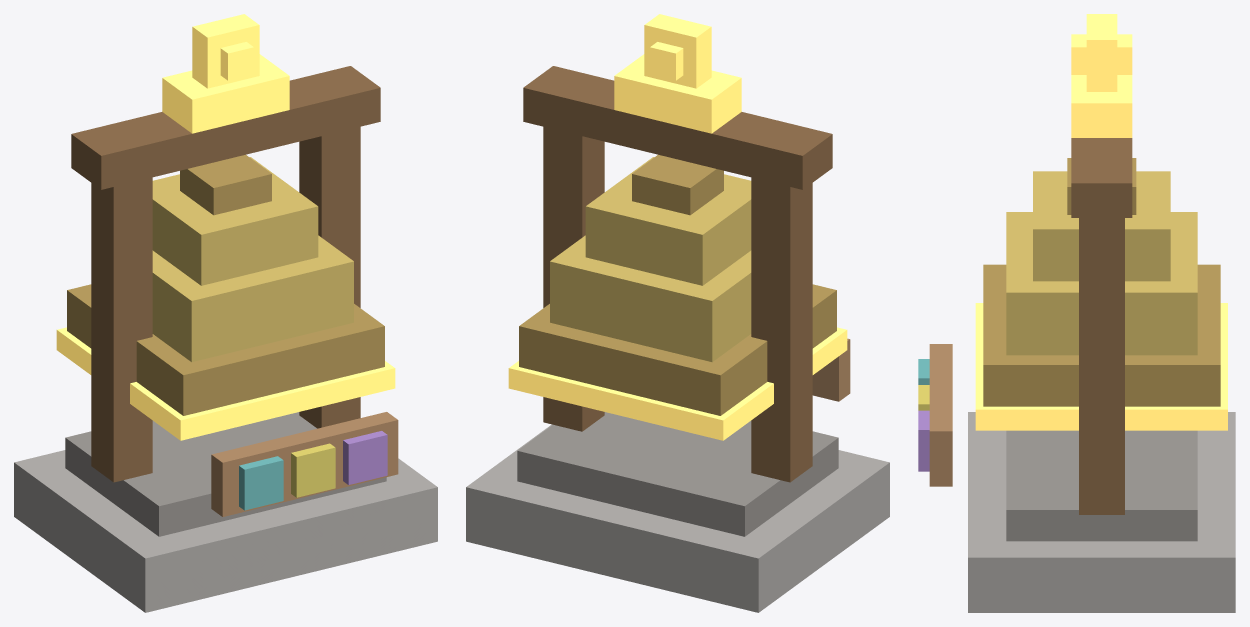
File: master-bell.glb
The picture shows the model from 3 angles, left to right: view 1: azimuth 30°, elevation 25°; view 2: azimuth 150°, elevation 25°; view 3: azimuth 270°, elevation 25°; orthographic projection.
Visible parts, largest first — view 1: built-master-bell; view 2: built-master-bell; view 3: built-master-bell.
Part boxes in pixels (x1,y1,x2,y2): built-master-bell: [14, 14, 437, 612]; built-master-bell: [466, 14, 889, 612]; built-master-bell: [918, 14, 1235, 612].
Size of the model in its own units: 0.9 by 1.48 by 0.83.
